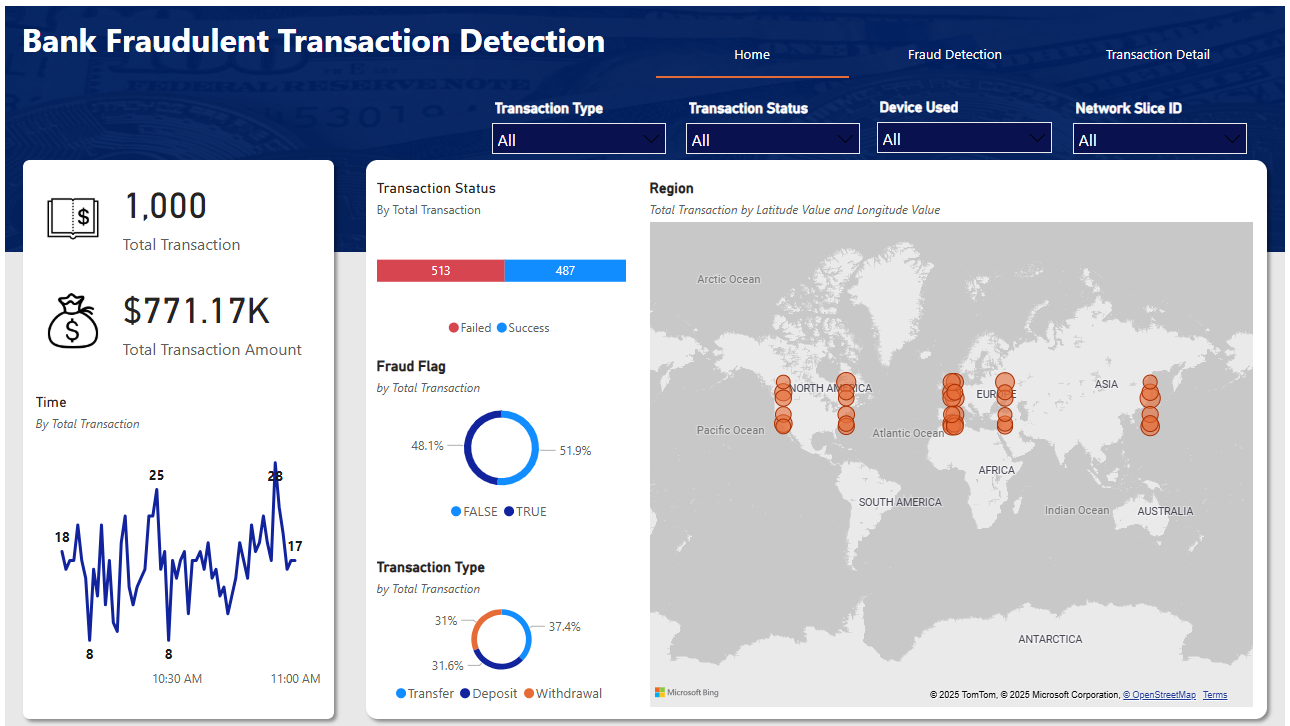

Layout of this report page (visuals, bound fields, positions):
{"tool":"powerbi","page":{"name":"Home","canvas":[1400,900],"ordinal":0},"visuals":[{"type":"cardVisual","fields":{"Data":["_measures.Total Transaction"]},"box":[85.7,244.4,295.2,112.7],"z":0},{"type":"cardVisual","fields":{"Data":["_measures.Total Transaction Amount"]},"box":[85.7,357.1,295.2,96.8],"z":1000},{"type":"lineChart","title":"Time","fields":{"Category":["bank transaction_data.Time"],"Y":["_measures.Total Transaction"]},"box":[85.7,476.2,295.2,303.2],"z":2000},{"type":"barChart","title":"Transaction Status","fields":{"Y":["_measures.Total Transaction"],"Series":["bank transaction_data.Transaction Status"]},"box":[427.2,261.7,259.3,166.7],"z":3000},{"type":"donutChart","title":"Fraud Flag","fields":{"Category":["bank transaction_data.Fraud Flag"],"Y":["_measures.Total Transaction"]},"box":[427.2,439.5,259.3,172.8],"z":4000},{"type":"donutChart","title":"Transaction Type","fields":{"Y":["_measures.Total Transaction"],"Category":["bank transaction_data.Transaction Type"]},"box":[427.2,640.7,259.3,153.1],"z":5000},{"type":"map","title":"Region","fields":{"Y":["bank transaction_data.Latitude"],"X":["bank transaction_data.longtitude"],"Size":["_measures.Total Transaction Amount"]},"box":[700,261.9,612.7,531.7],"z":6000},{"type":"slicer","fields":{"Values":["bank transaction_data.Network Slice ID"]},"box":[1117.7,177.1,194.4,59.7],"z":7000},{"type":"slicer","fields":{"Values":["bank transaction_data.Device Used"]},"box":[922.2,176.2,195.2,58.7],"z":8000},{"type":"slicer","fields":{"Values":["bank transaction_data.Transaction Status"]},"box":[730.6,177.1,194.4,59.7],"z":9000},{"type":"slicer","fields":{"Values":["bank transaction_data.Transaction Type"]},"box":[537.1,177.1,194.4,59.7],"z":10000},{"type":"textbox","box":[72,94,614,60],"z":11000},{"type":"pageNavigator","box":[711.1,109.9,600,50.6],"z":12000}]}

Visuals, with their boxes on the page's 1400x900 design canvas (x1, y1, x2, y2). These are canvas units, not pixel positions in the 1290x726 screenshot, which may show the page scaled, cropped or inside an application window:
cardVisual - _measures.Total Transaction: 86:244:381:357
cardVisual - _measures.Total Transaction Amount: 86:357:381:454
"Time" lineChart: 86:476:381:779
"Transaction Status" barChart: 427:262:686:428
"Fraud Flag" donutChart: 427:440:686:612
"Transaction Type" donutChart: 427:641:686:794
"Region" map: 700:262:1313:794
slicer - bank transaction_data.Network Slice ID: 1118:177:1312:237
slicer - bank transaction_data.Device Used: 922:176:1117:235
slicer - bank transaction_data.Transaction Status: 731:177:925:237
slicer - bank transaction_data.Transaction Type: 537:177:732:237
textbox: 72:94:686:154
pageNavigator: 711:110:1311:160
